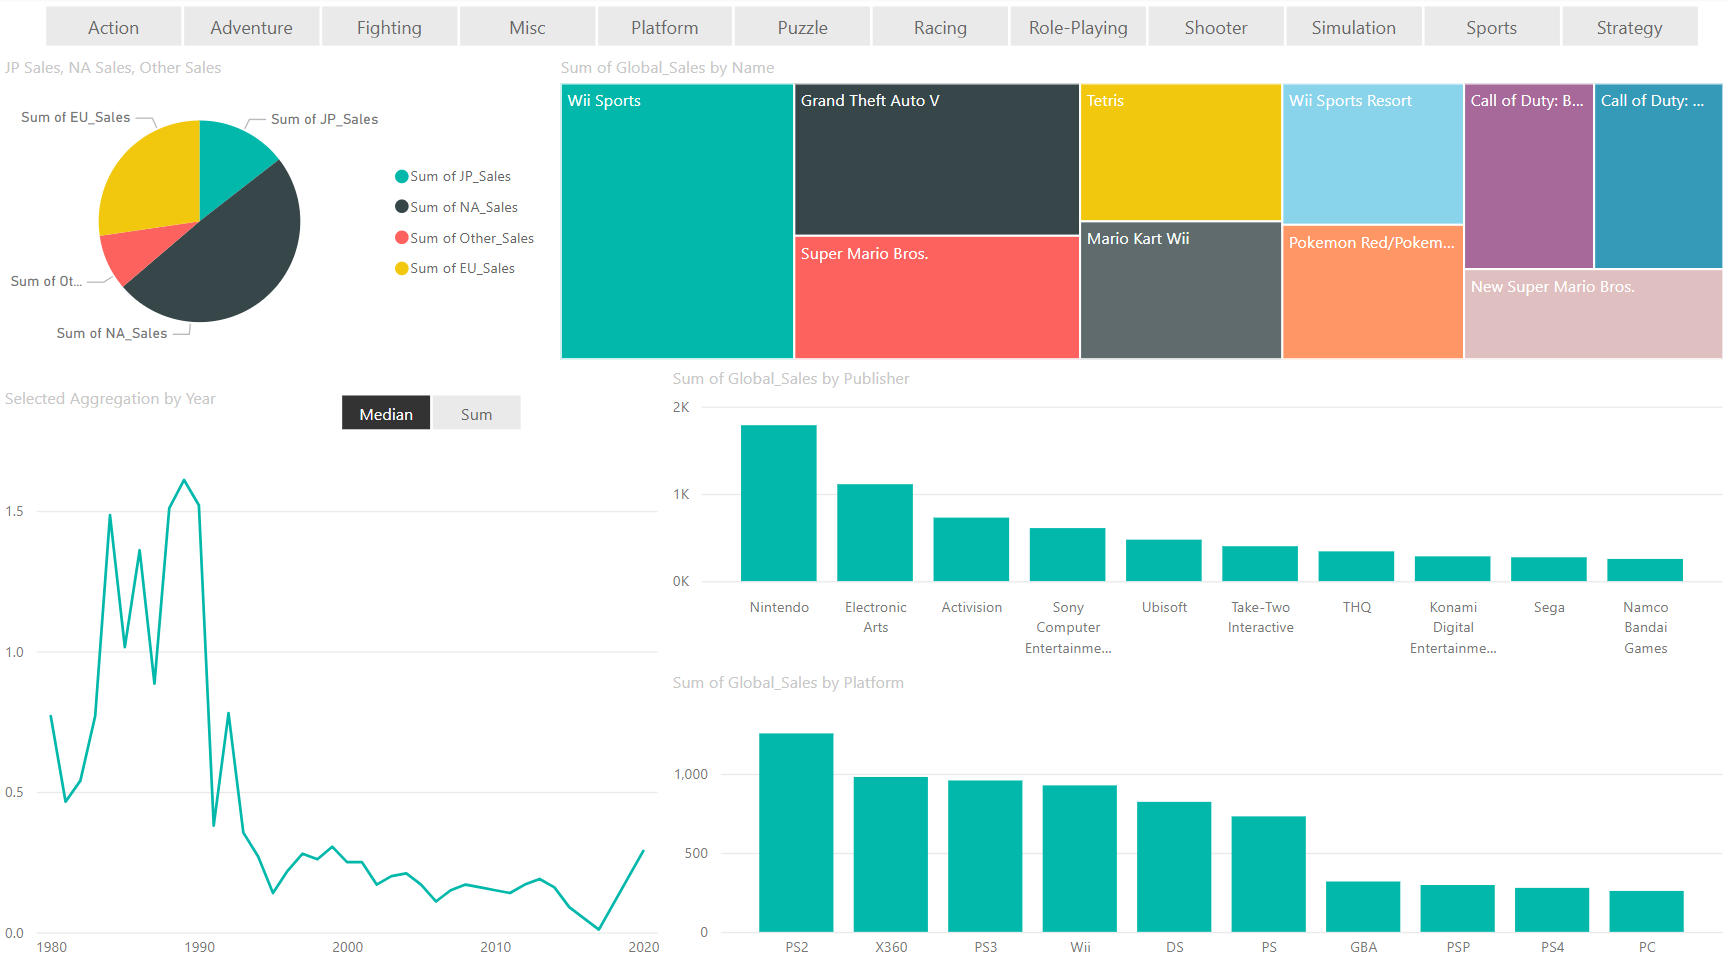

What the dashboard file says about the page in this screenshot:
{"tool":"powerbi","page":{"name":"Page 1","canvas":[1280,720],"ordinal":0},"visuals":[{"type":"slicer","fields":{"Values":["data.Genre"]},"box":[9.8,0,1270.5,42.8],"z":0},{"type":"pieChart","title":"JP Sales, NA Sales, Other Sales","fields":{"Y":["Sum(data.JP_Sales)","Sum(data.NA_Sales)","Sum(data.Other_Sales)","Sum(data.EU_Sales)"]},"box":[0,42.8,410.9,229.9],"z":1000},{"type":"lineChart","fields":{"Category":["data.Year"],"Y":["Aggregation Selection.Selected Aggregation"]},"box":[0,287.4,494,432.9],"z":2000},{"type":"slicer","fields":{"Values":["Aggregation Selection.Aggregation"]},"box":[228.7,287.4,182.2,39.1],"z":3000},{"type":"lineClusteredColumnComboChart","fields":{"Category":["data.Publisher"],"Y":["Sum(data.Global_Sales)"]},"box":[494,272.7,786.3,223],"z":3001},{"type":"lineClusteredColumnComboChart","fields":{"Category":["data.Platform"],"Y":["Sum(data.Global_Sales)"]},"box":[494,497.7,786.3,222.6],"z":3002},{"type":"treemap","fields":{"Group":["data.Name"],"Values":["Sum(data.Global_Sales)"]},"box":[410.9,42.8,869.4,229.9],"z":3003}]}

Visuals, with their boxes in screenshot pixels (x1, y1, x2, y2), scaled from the page's 1280x720 canvas onto the 1728x969 screenshot:
slicer - data.Genre: locate(13, 0, 1727, 58)
"JP Sales, NA Sales, Other Sales" pieChart: locate(0, 58, 555, 367)
lineChart - data.Year x Aggregation Selection.Selected Aggregation: locate(0, 387, 667, 968)
slicer - Aggregation Selection.Aggregation: locate(309, 387, 555, 439)
lineClusteredColumnComboChart - data.Publisher x Sum(data.Global_Sales): locate(667, 367, 1727, 667)
lineClusteredColumnComboChart - data.Platform x Sum(data.Global_Sales): locate(667, 670, 1727, 968)
treemap - data.Name x Sum(data.Global_Sales): locate(555, 58, 1727, 367)
